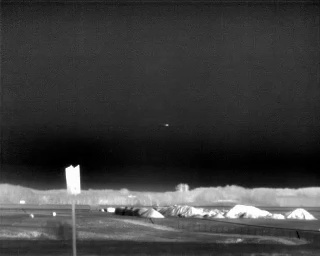BIRD: (163, 121, 170, 129)
